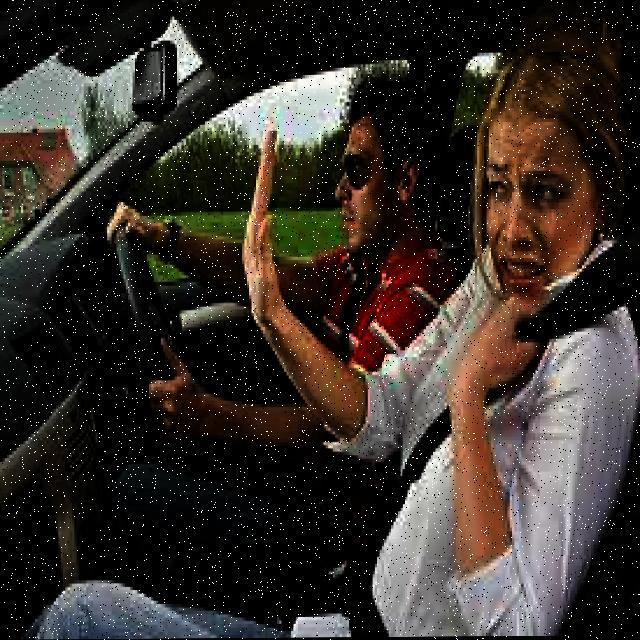seatbelt: (367, 217, 640, 638)
